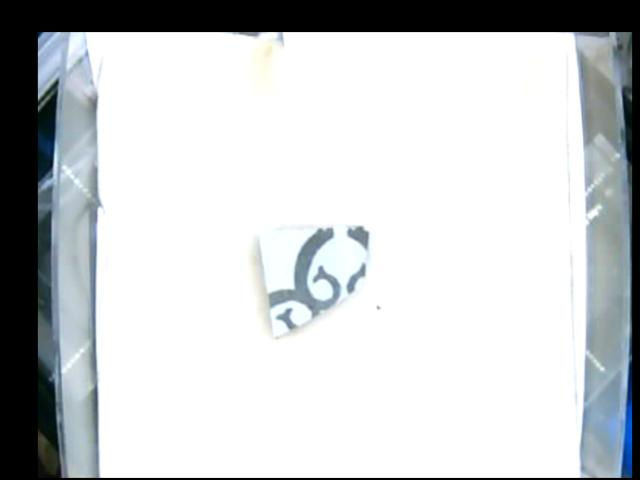China: (258, 224, 367, 337)
